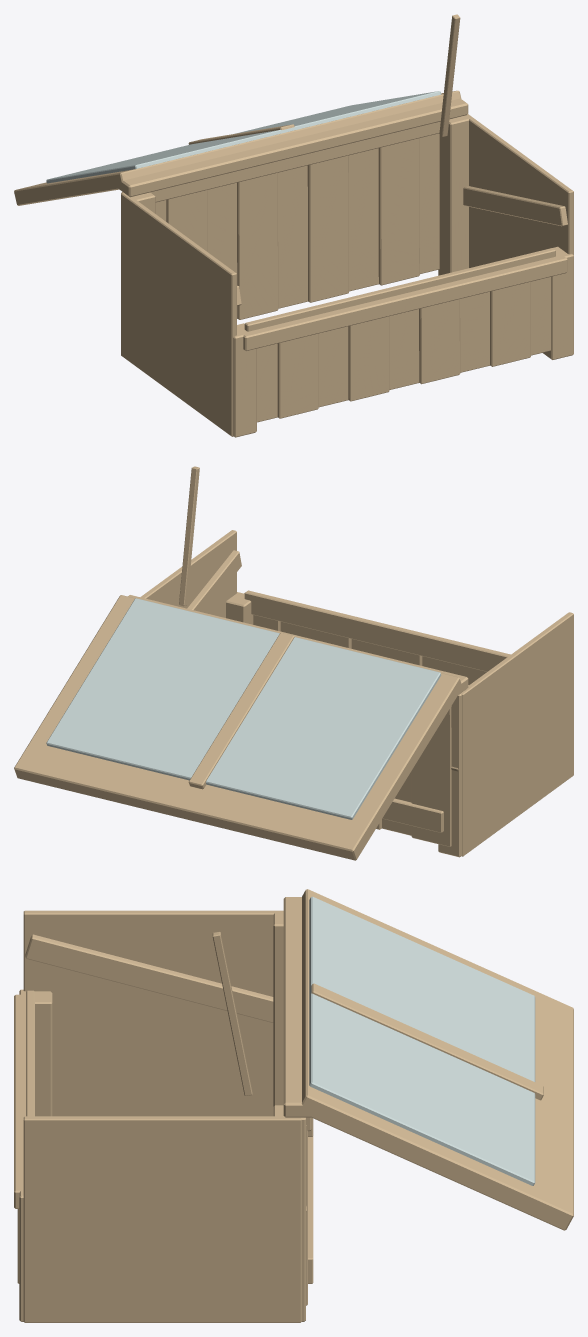
File: garden-centre-and-florist-cold-frame-open-cf789087__17795.glb
3 renders of one model, top to bottom at view 1: azimuth 30°, elevation 25°; view 2: azimuth 150°, elevation 25°; view 3: azimuth 270°, elevation 25°, orthographic. The views are drawn at different scales.
Parts seen in each view (by area): view 1: cold-frame-open, cold-frame-lid (×2); view 2: cold-frame-lid (×2), cold-frame-open; view 3: cold-frame-open, cold-frame-lid (×2).
Part boxes in pixels (<box>): cold-frame-open: <box>118,98,573,437</box>; cold-frame-lid (×2): <box>14,14,461,205</box>; cold-frame-lid (×2): <box>14,466,462,860</box>; cold-frame-open: <box>128,530,573,857</box>; cold-frame-open: <box>14,897,313,1322</box>; cold-frame-lid (×2): <box>212,889,573,1230</box>.
Bounding box in the file's own units: 1.21 × 0.9843 × 1.37.
